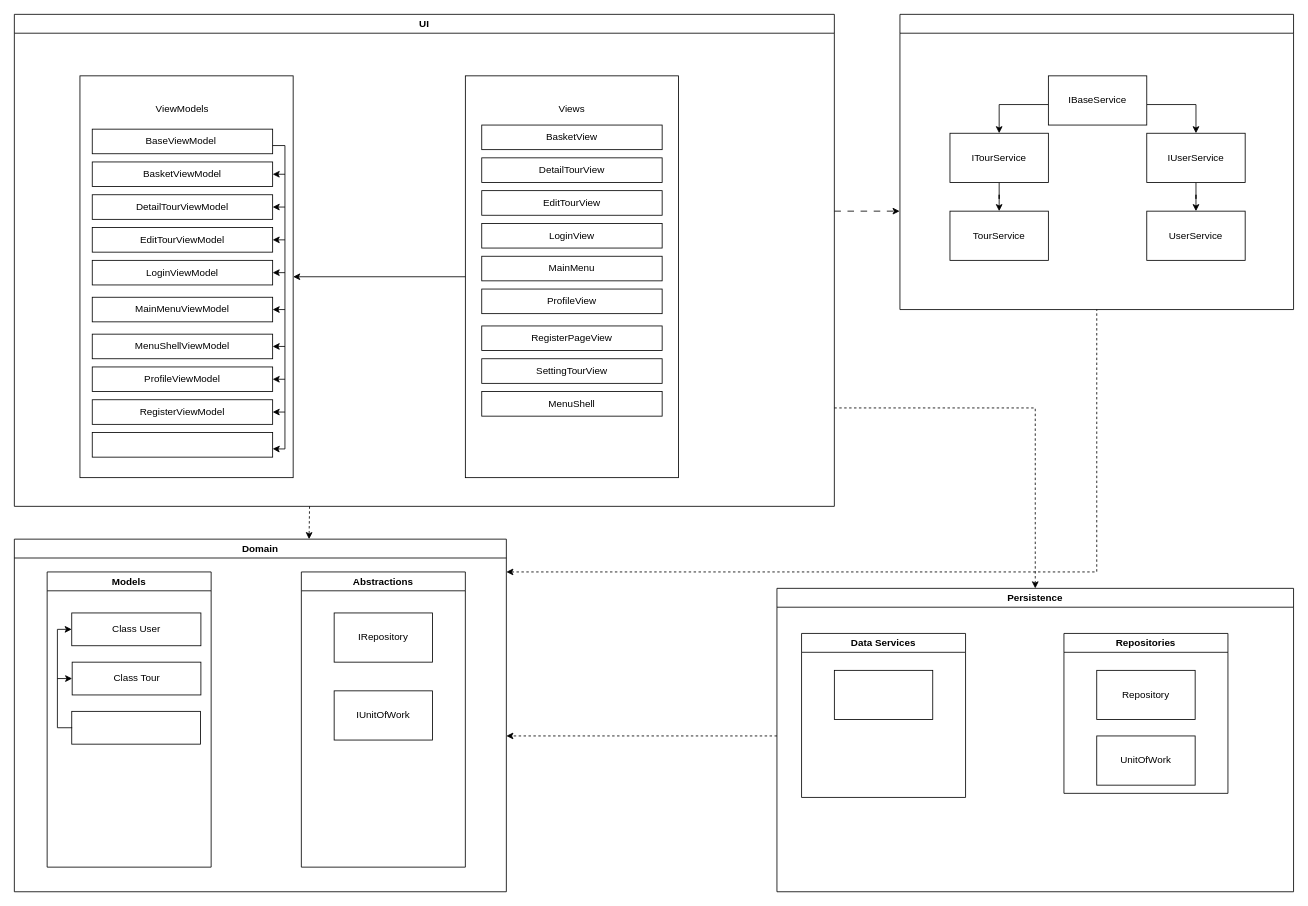
The diagram is 1308 pixels wide and 906 high, and some of its shapes have lost their labels. The centre of each missing label's shape, as x and y in pixels:
Application: the point at 1096,162
Class Entity: the point at 135,727
DatabaseService: the point at 883,695
SettingTourViewModel: the point at 182,444
